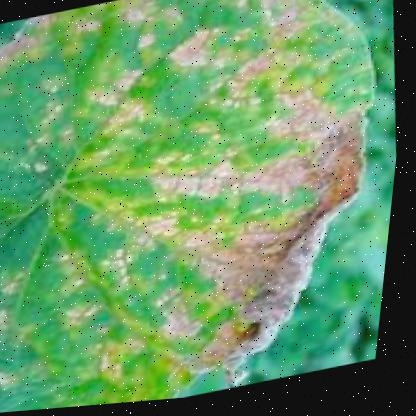Anthracnose: (13, 11, 398, 412)
